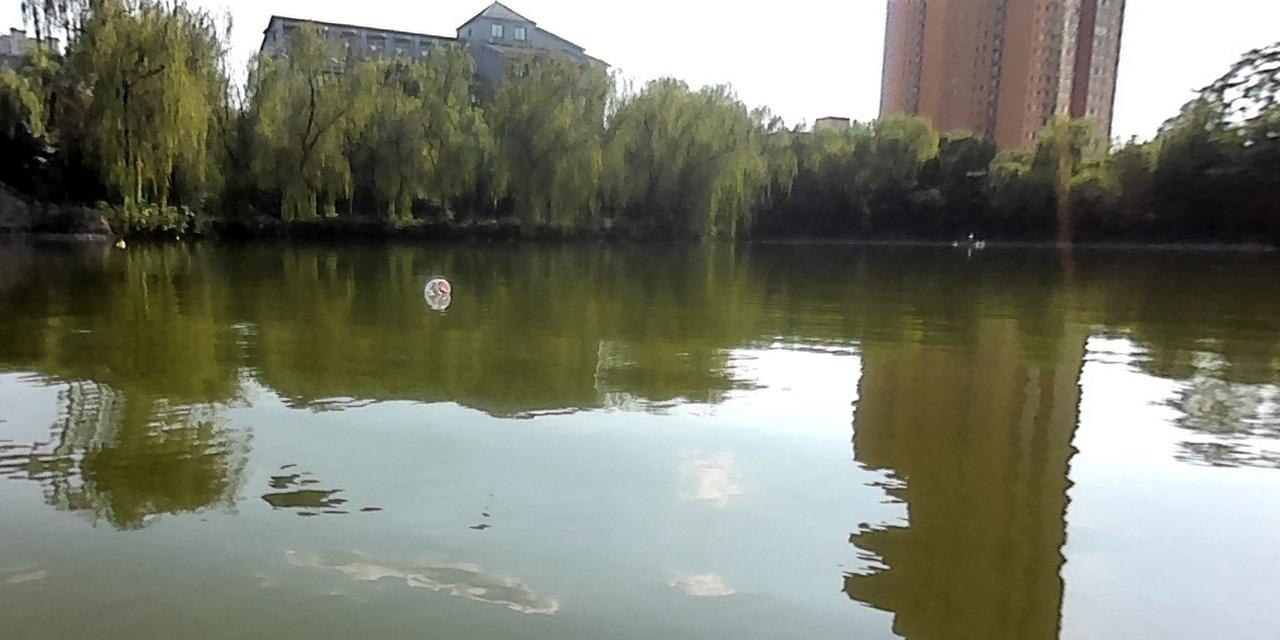bottle: (423, 275, 449, 300)
